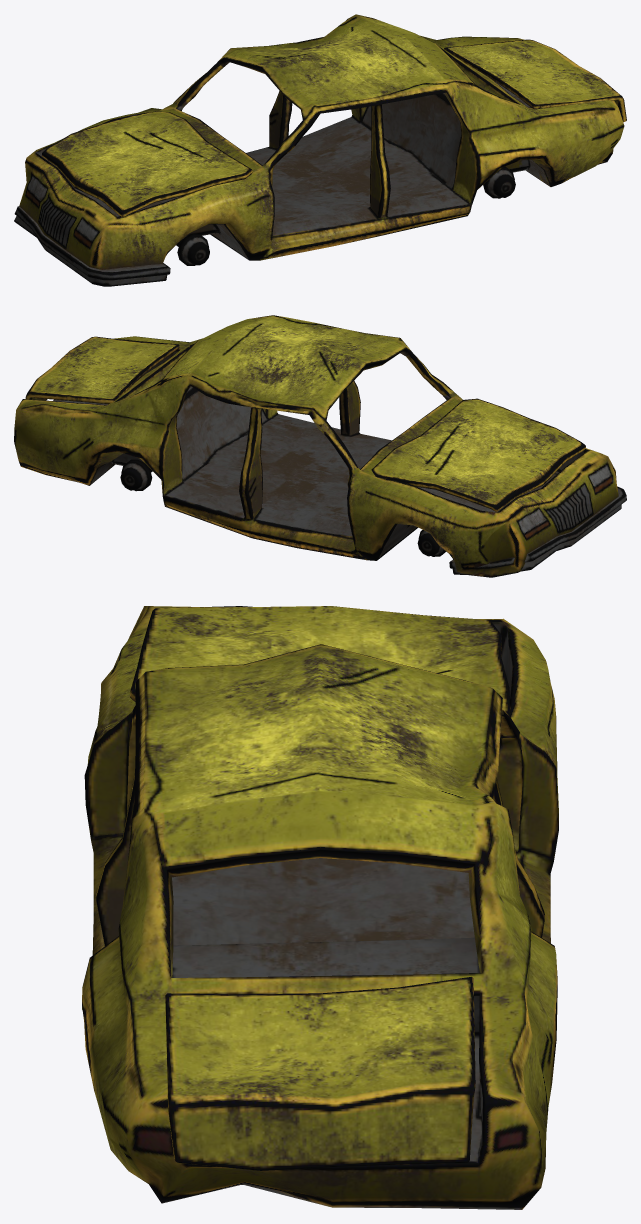
The model's file is junk_car_v3.fbx.
3 views of the same model, one above another, from view 1: azimuth 30°, elevation 25°; view 2: azimuth 150°, elevation 25°; view 3: azimuth 270°, elevation 25° (orthographic). The views are drawn at different scales.
Visible parts, largest first — view 1: junk_car_v3_chasis, junk_car_v3_hood, junk_car_v3_trunk, junk_car_v3, junk_car_v3_underbelly; view 2: junk_car_v3_chasis, junk_car_v3_hood, junk_car_v3_trunk, junk_car_v3; view 3: junk_car_v3_chasis, junk_car_v3_trunk, junk_car_v3_hood.
Part boxes in pixels (x1=…): junk_car_v3_chasis: x1=19, y1=14, x2=624, y2=269; junk_car_v3_hood: x1=42, y1=111, x2=252, y2=217; junk_car_v3_trunk: x1=444, y1=39, x2=626, y2=122; junk_car_v3: x1=14, y1=166, x2=515, y2=286; junk_car_v3_underbelly: x1=185, y1=159, x2=530, y2=236; junk_car_v3_chasis: x1=14, y1=315, x2=618, y2=577; junk_car_v3_hood: x1=371, y1=398, x2=585, y2=512; junk_car_v3_trunk: x1=25, y1=336, x2=179, y2=404; junk_car_v3: x1=120, y1=459, x2=626, y2=574; junk_car_v3_chasis: x1=82, y1=606, x2=558, y2=1209; junk_car_v3_trunk: x1=165, y1=977, x2=475, y2=1170; junk_car_v3_hood: x1=130, y1=606, x2=510, y2=717.
Bounding box in the file's own units: 27.11 × 7.3 × 10.5.
1 material, 1 textured.
